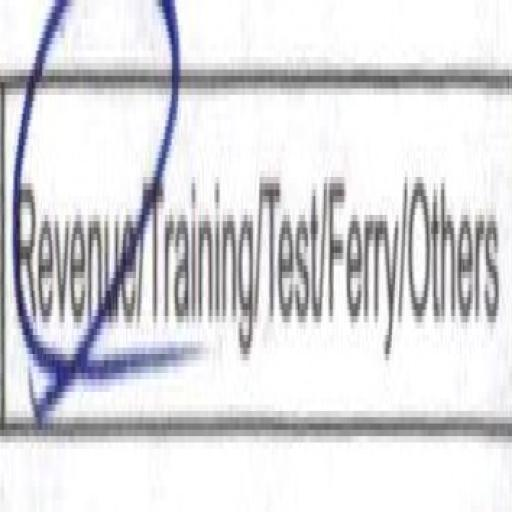check: (2, 0, 148, 421)
